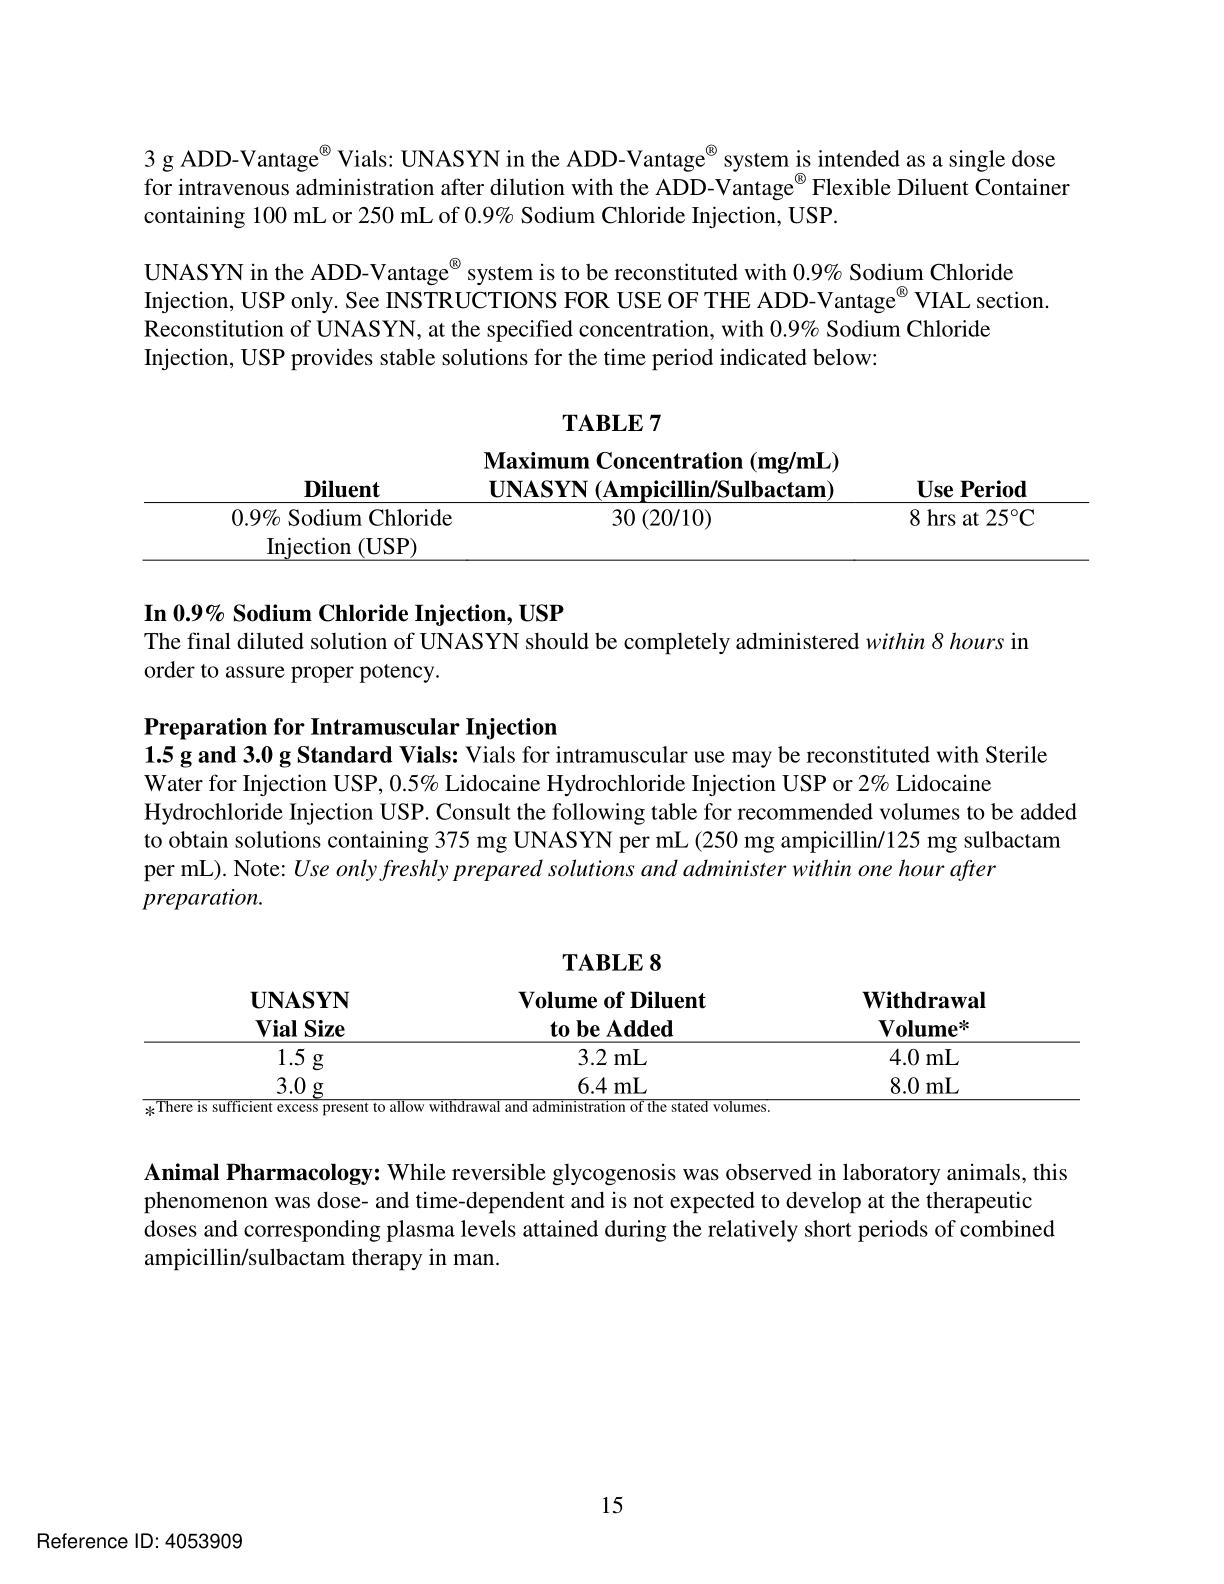partial_lined: (141, 987, 1083, 1103), (140, 472, 1092, 563)
